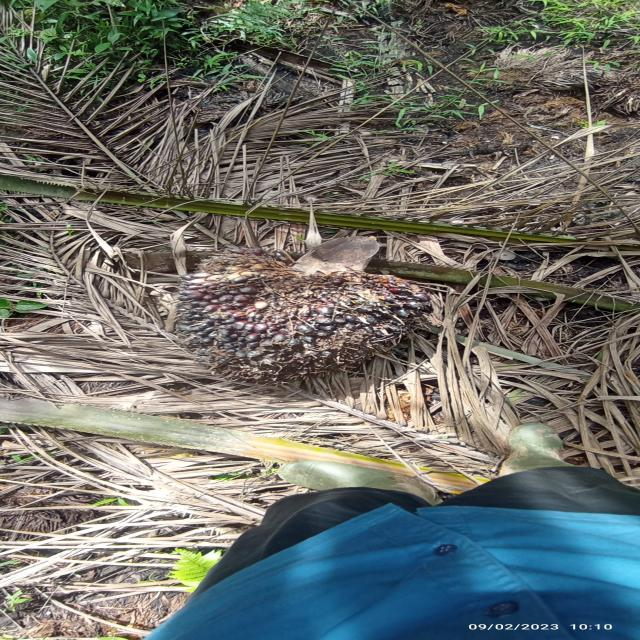fraksi 00: (137, 250, 470, 420)
